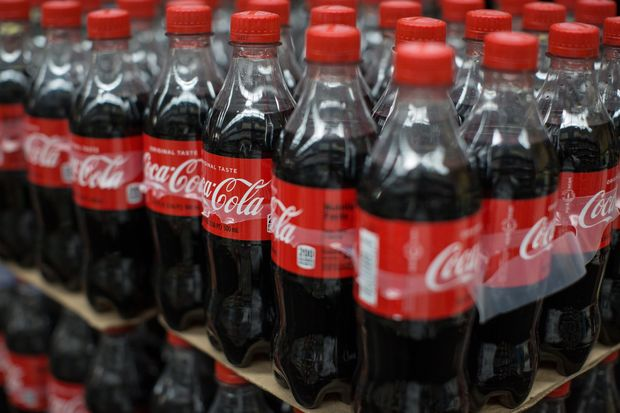Coca-Cola: (140, 15, 209, 322)
Copy of Coca-Cola: (276, 55, 347, 389), (75, 9, 144, 317), (204, 35, 273, 343)
Copy of Copy of Coca-Cola: (348, 46, 472, 413), (12, 1, 81, 307)
Copy of Copy of Copy of Coca-Cola: (482, 38, 551, 401)
Copy of Copy of Copy of Copy of Coca-Cola: (550, 21, 619, 385)
